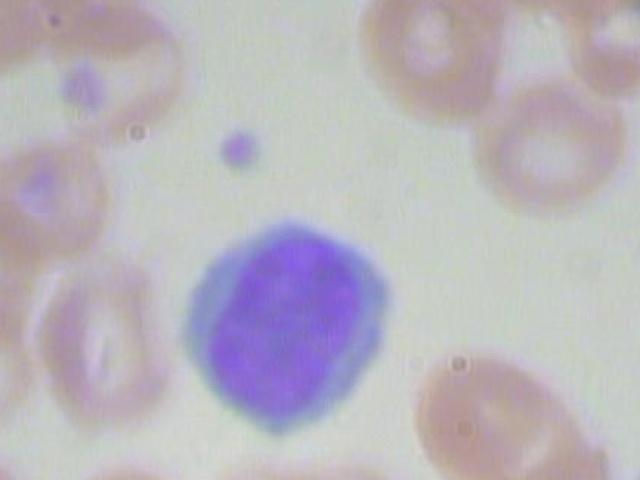Platelets: (208, 121, 274, 181), (628, 460, 640, 480)
WBC: (155, 210, 401, 451)
